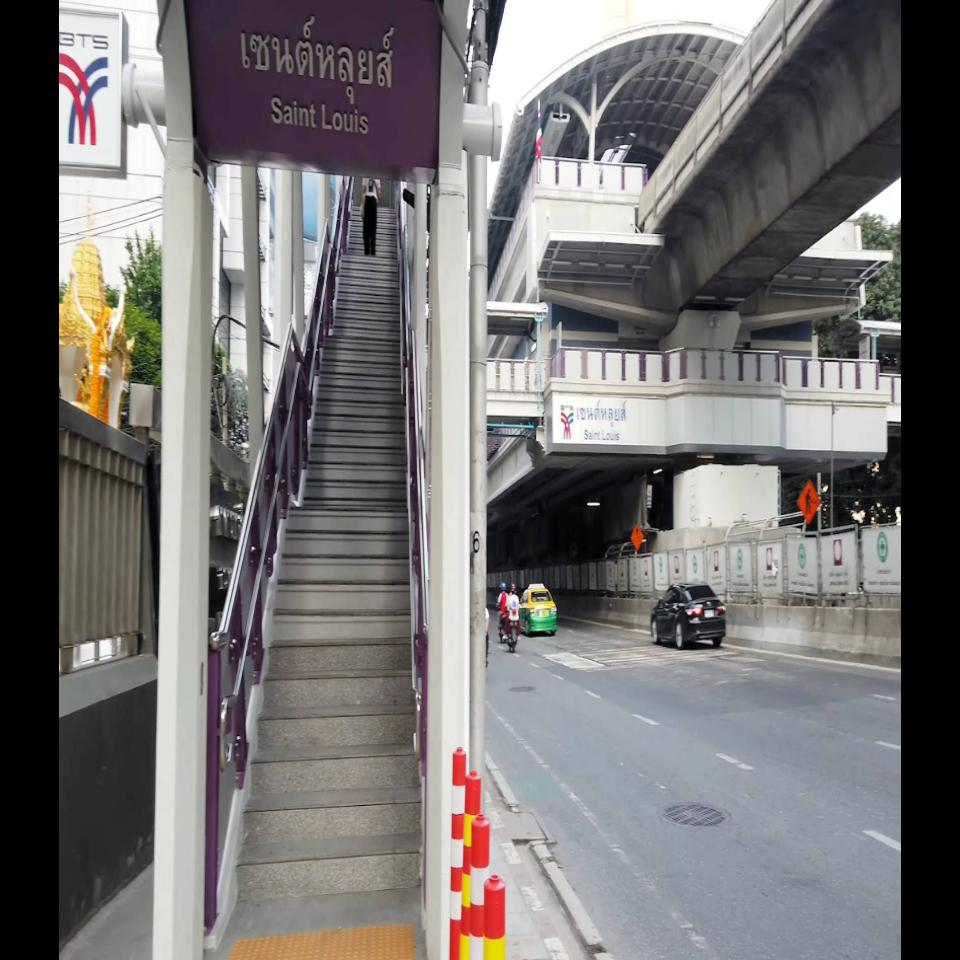signage: (59, 0, 444, 173), (182, 1, 444, 168), (560, 400, 627, 442), (576, 400, 626, 441)
